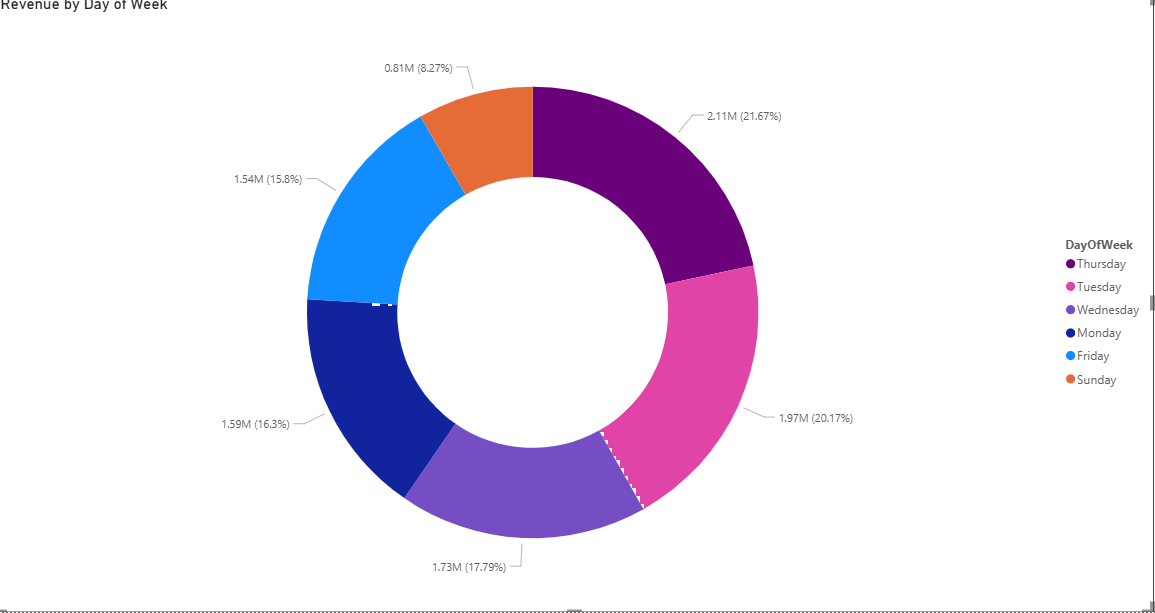

The page's visual inventory and layout, read from the dashboard file:
{"tool":"powerbi","page":{"name":"Page 2","canvas":[1280,720],"ordinal":1},"visuals":[{"type":"donutChart","title":"Revenue by Day of Week","fields":{"Category":["online_retail_clean.DayOfWeek"],"Y":["Sum(online_retail_clean.total_price)"]},"box":[0,41.2,1270.7,679.2],"z":0}]}

Visuals, with their boxes on the page's 1280x720 design canvas (x1, y1, x2, y2). These are canvas units, not pixel positions in the 1155x613 screenshot, which may show the page scaled, cropped or inside an application window:
"Revenue by Day of Week" donutChart: 0:41:1271:720
